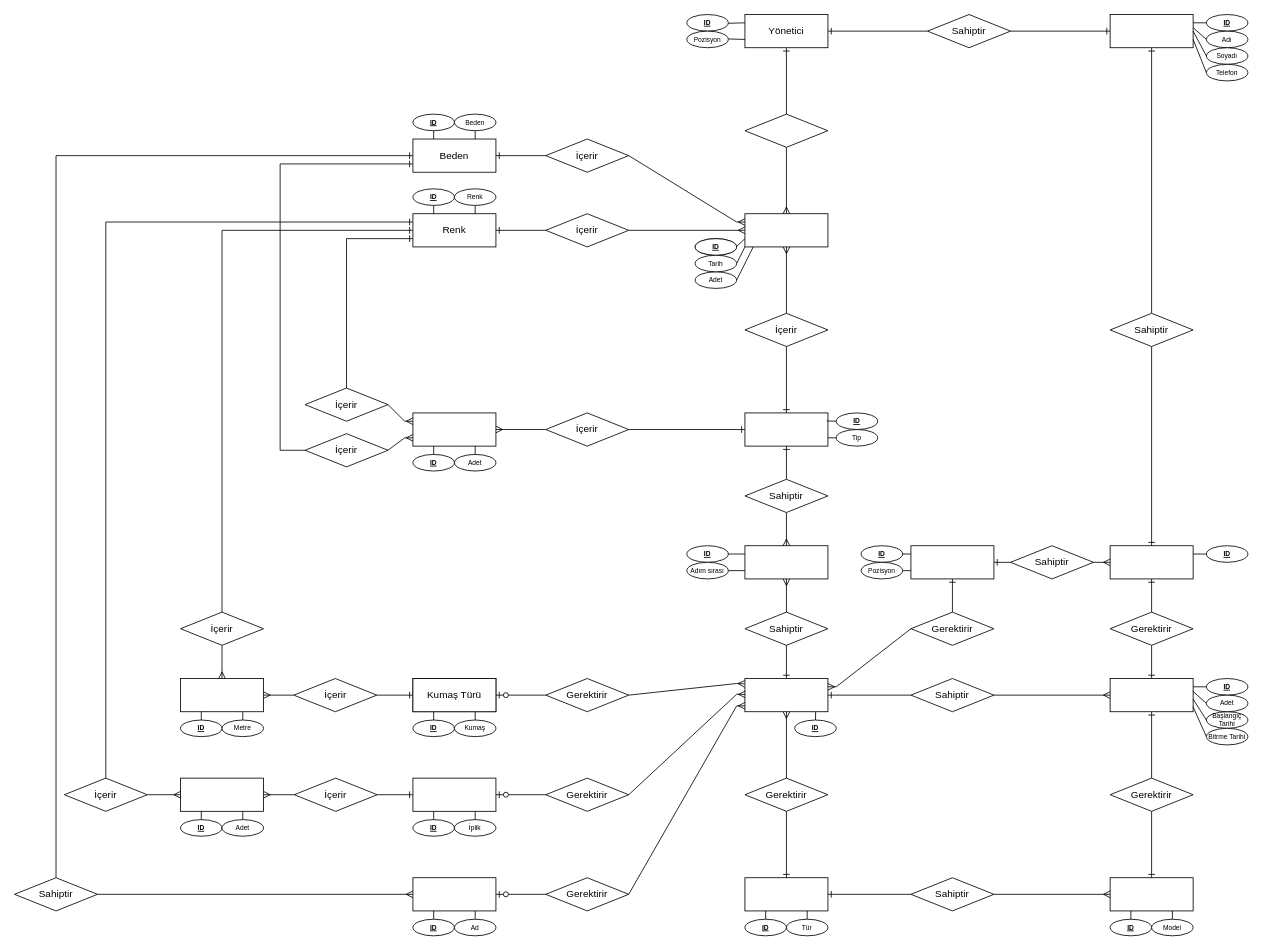
The diagram is 1262 pixels wide and 950 high, and some of its shapes have lost their labels. The shapes that lost their labels are listed below. From the top down, each one's box as (x1, y1, x2, y2) in pixels, then its label:
(1109, 14, 1193, 48): Kişisel Bilgiler
(744, 113, 828, 147): Verir
(744, 213, 828, 247): Üretim Emri
(412, 412, 496, 446): Ürün Stok
(744, 412, 828, 446): Ürün Tipi
(744, 545, 828, 579): Üretim Adımları
(910, 545, 994, 579): İşçi Pozisyonları
(1109, 545, 1193, 579): İşçi
(180, 678, 264, 712): Kumaş Stok
(744, 678, 828, 712): İşlem Türü
(1109, 678, 1193, 712): İşlem
(180, 777, 264, 811): İplik Stok
(412, 777, 496, 811): İplik Türü
(412, 877, 496, 911): Kalıp
(744, 877, 828, 911): Makine Türü
(1109, 877, 1193, 911): Makine
